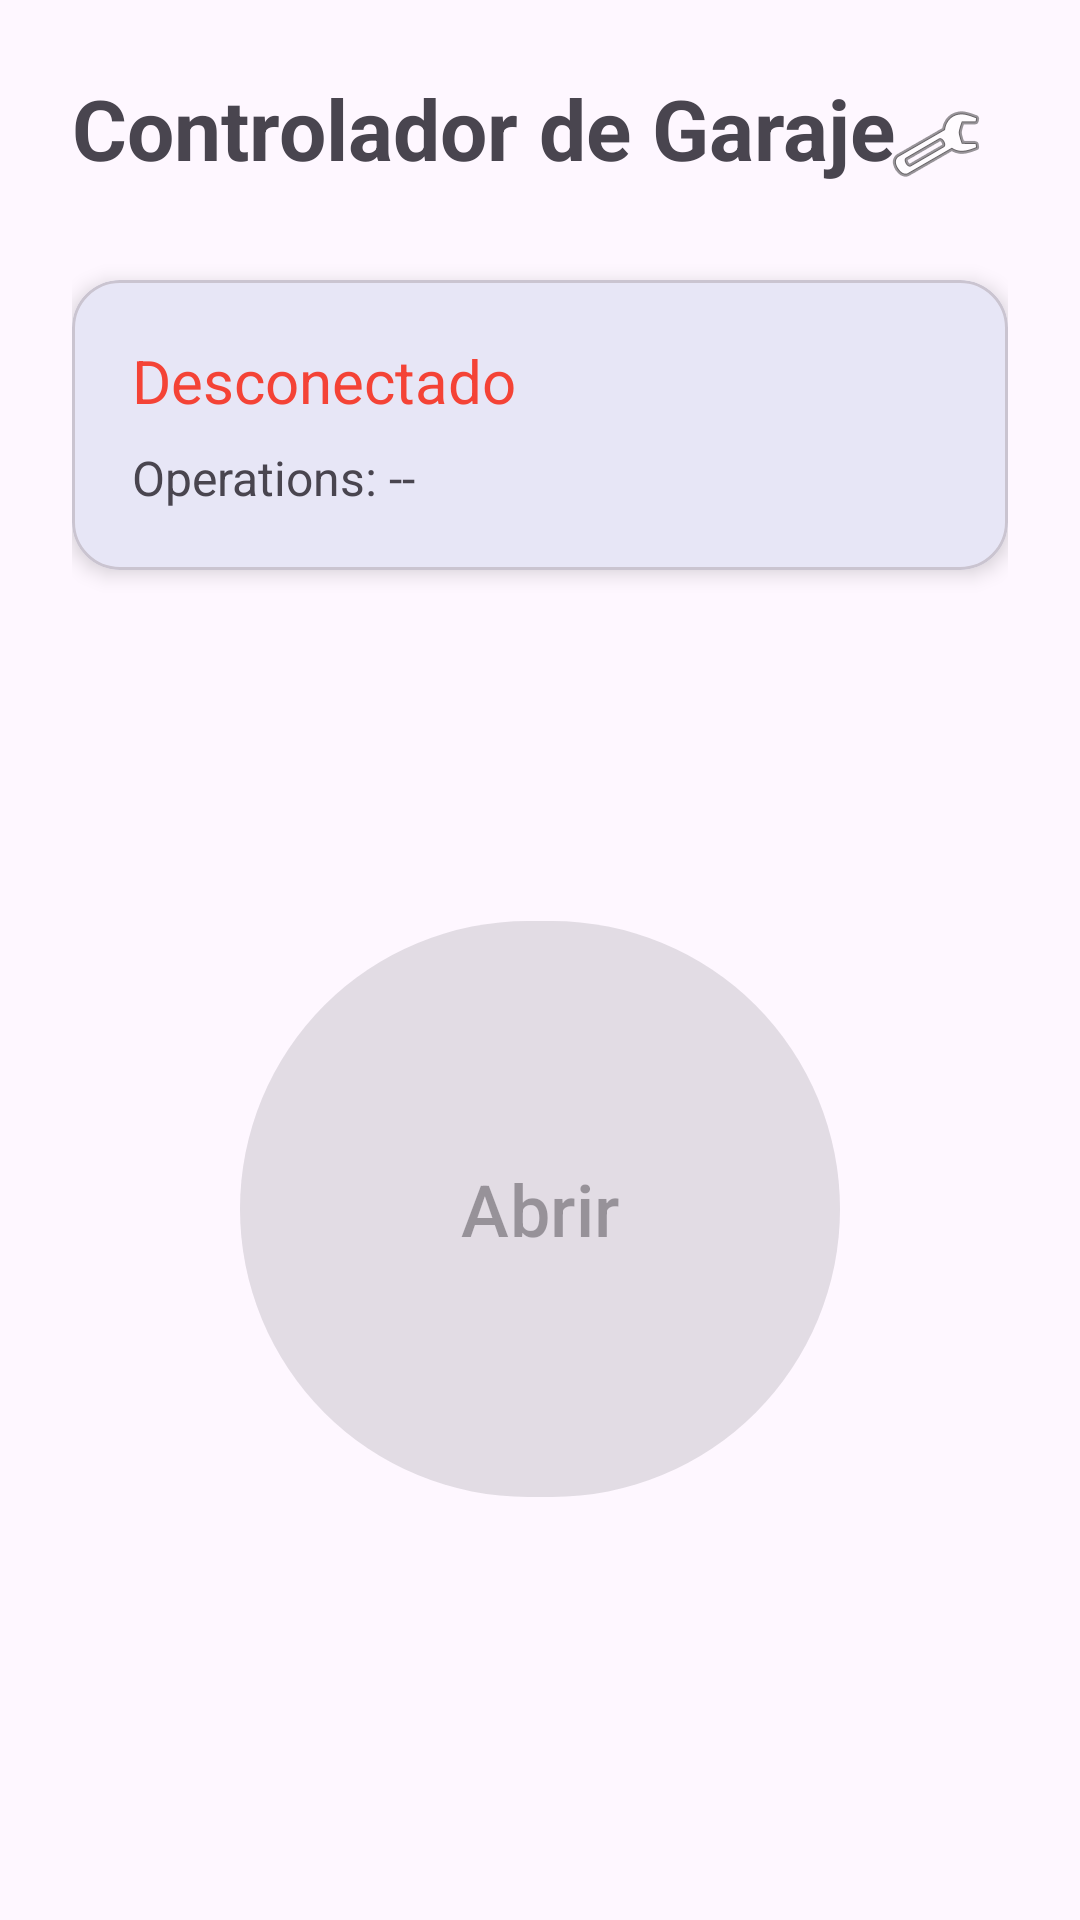

Icon click points for this 1080px×1920px phone screenshot, format (x=x, y=y):
Configuración: (x=936, y=144)
